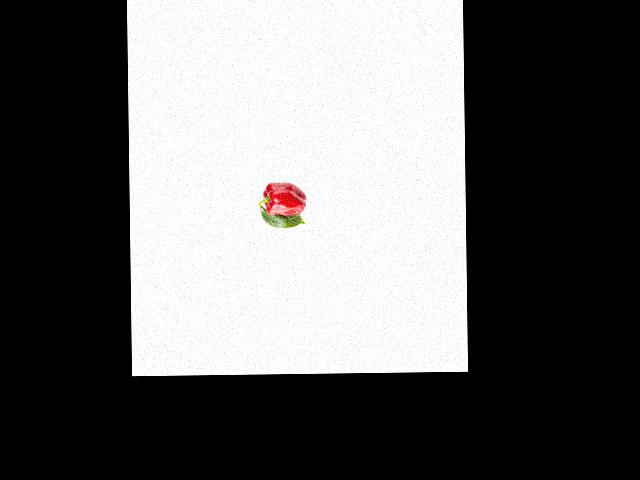bell_pepper: (259, 177, 308, 218)
